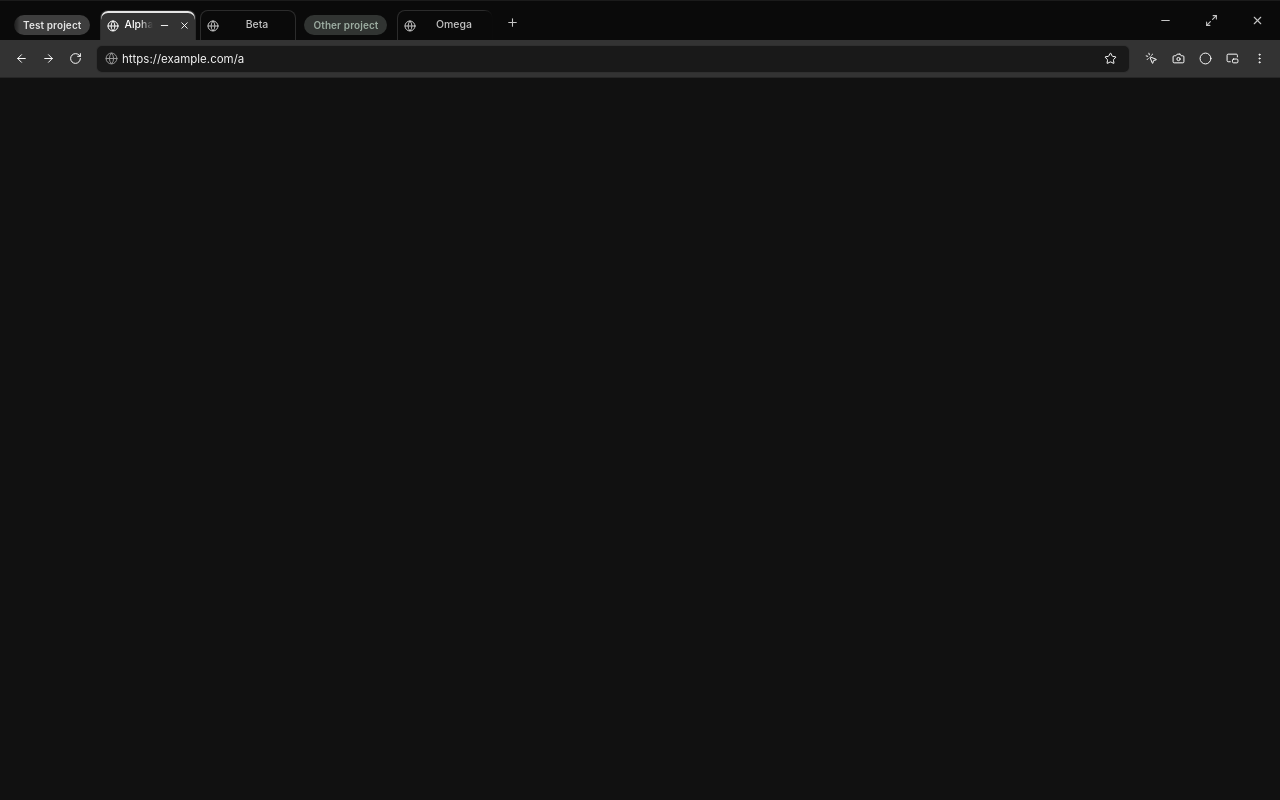
Test: BrowserWindowShell chrome › collapses a group behind its pill and moves the selection to a neighbour
The image size is (1280, 800).
Expected: the number of tabs is 3, left=102, top=11, right=196, bottom=40; left=202, top=11, right=296, bottom=40; left=398, top=11, right=492, bottom=40
Click the button with aria-label "Test project, 2 tabs, expanded": (52, 25) left=14, top=15, right=90, bottom=35
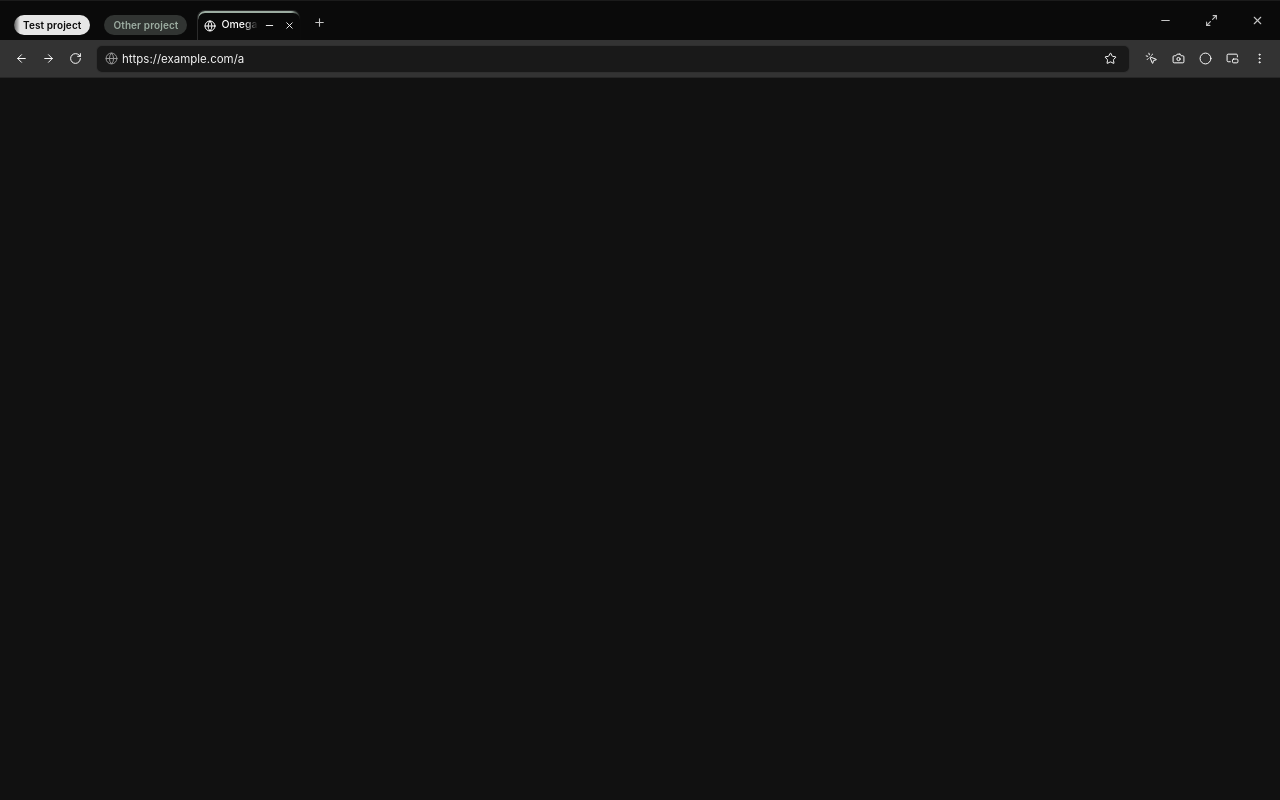
Expected: the number of tabs is 1, left=198, top=11, right=300, bottom=40
Cycling skips the folded group.
Press Tab
Expected: the tab "Omega" is selected, left=198, top=11, right=300, bottom=40
Click the button with aria-label "Test project, 2 tabs, collapsed": (52, 25) left=14, top=15, right=90, bottom=35
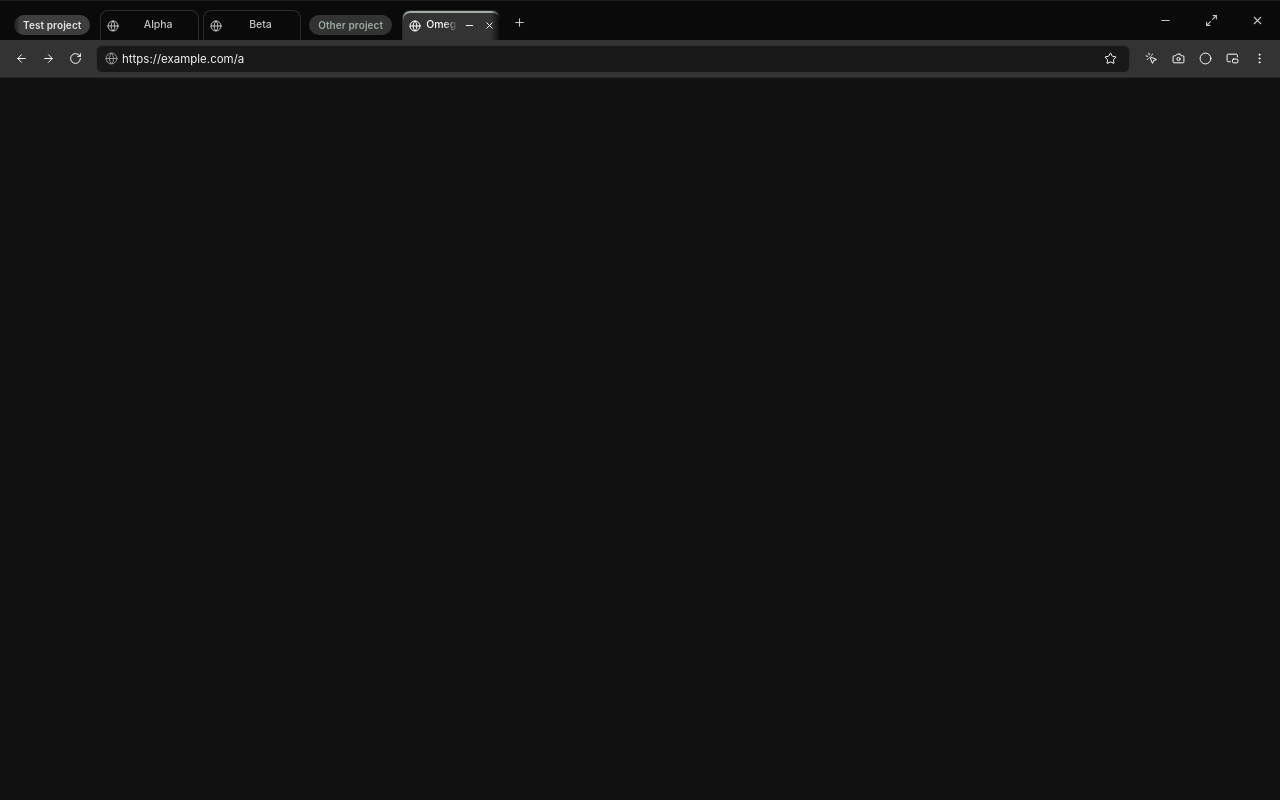
Expected: the number of tabs is 3, left=102, top=11, right=198, bottom=40; left=204, top=11, right=300, bottom=40; left=403, top=11, right=500, bottom=40
